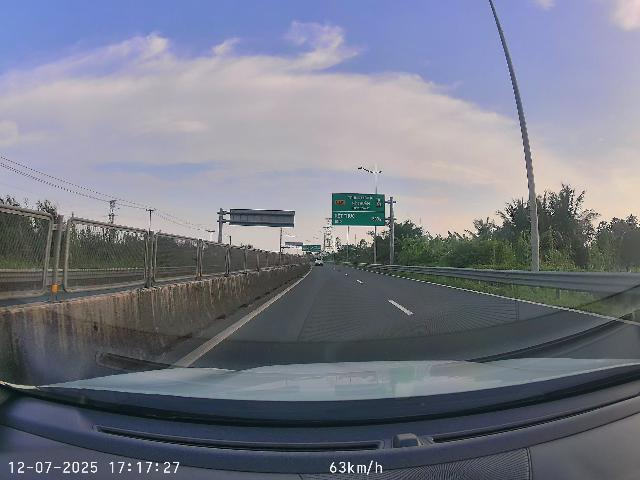438-ket-thuc-duong-cao-toc: (376, 198, 382, 208)
